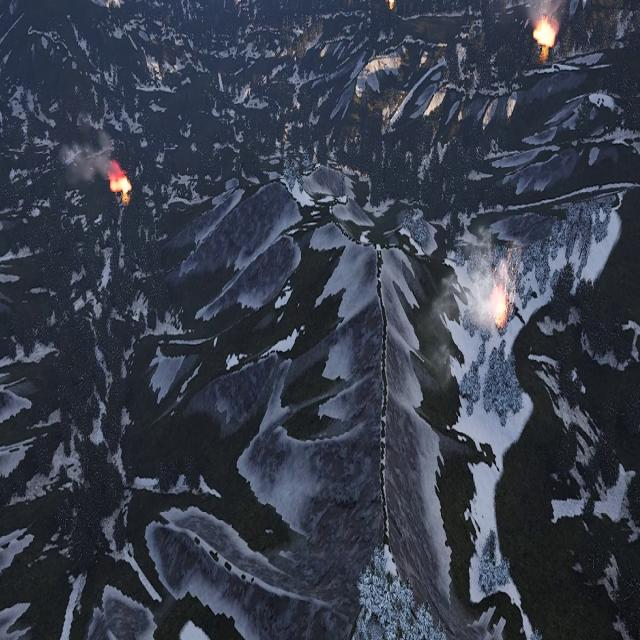fire: (490, 285, 508, 325), (112, 168, 134, 200), (534, 17, 557, 46), (389, 0, 394, 11)
smoke: (417, 224, 523, 395), (61, 132, 117, 184), (522, 0, 564, 28)
